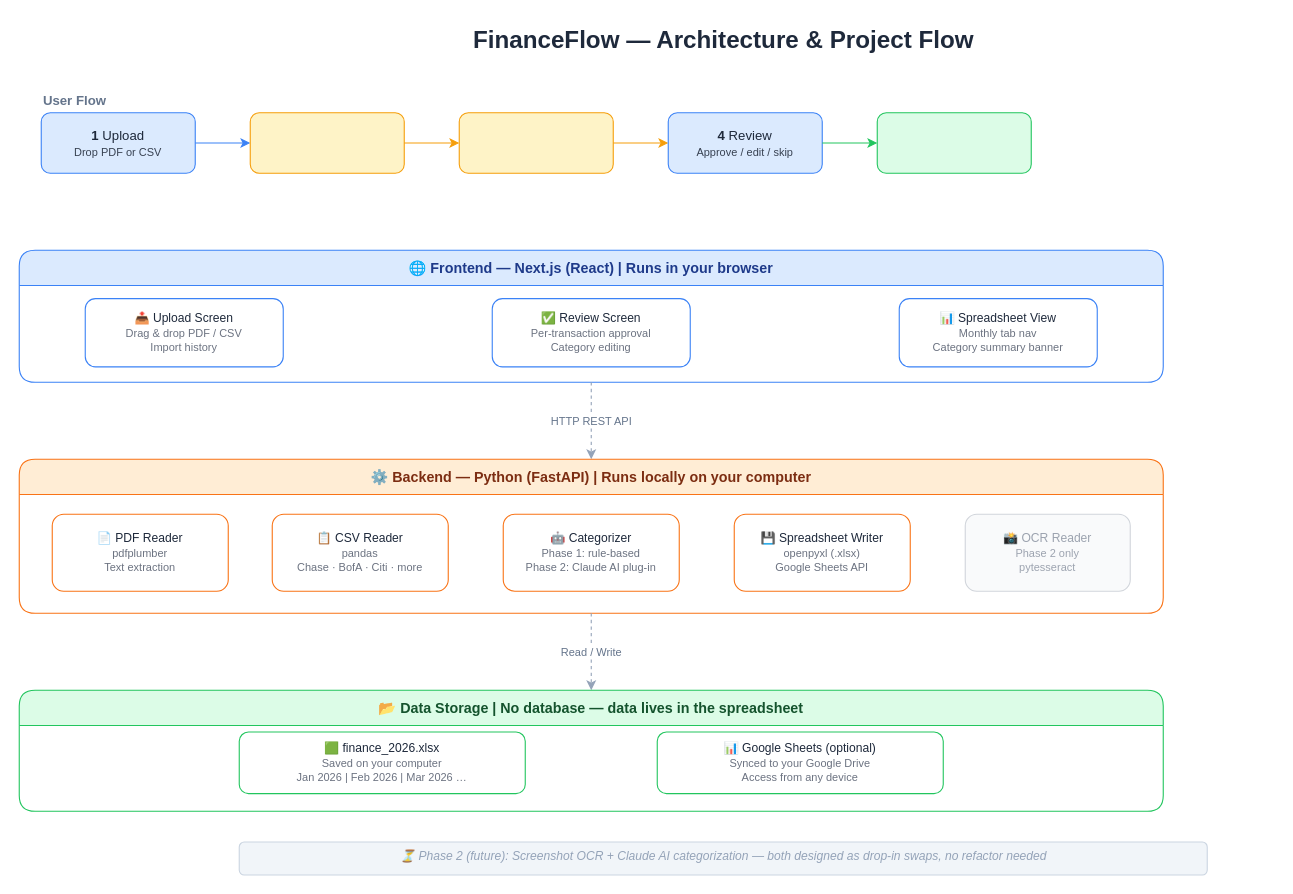
The diagram is 1293 pixels wide and 894 high, and some of its shapes have lost their labels. The centre of each missing label's shape, as x and y in pixels:
2 Extract Parse transactions: point 326,142
3 Categorize Rule-based matching: point 535,142
5 Save Write to spreadsheet: point 953,142
